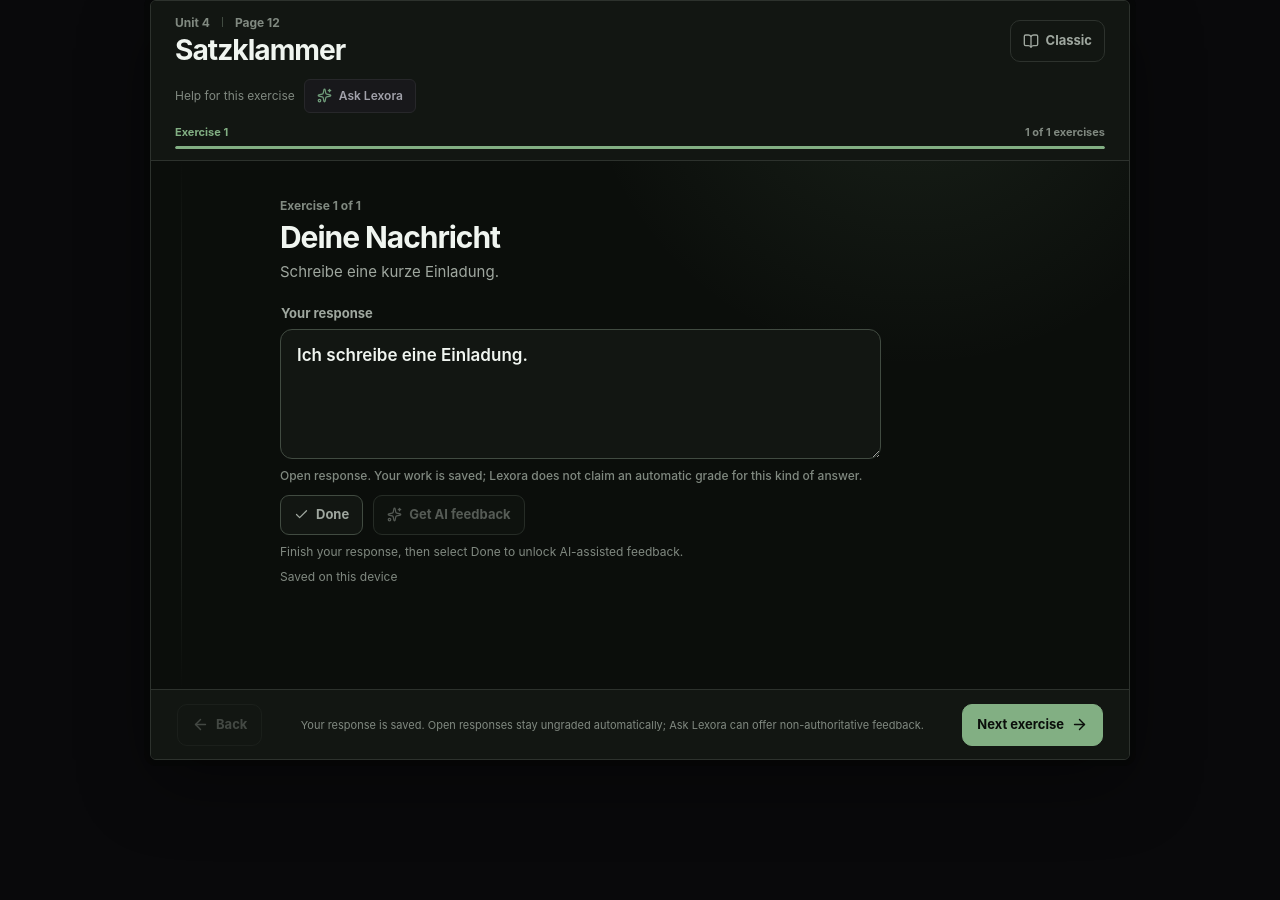
Test: InteractiveLesson › labels the open-response control cleanly and offers non-authoritative AI feedback
The width and height of the screenshot is (1280, 900).
Check: the button "Get AI feedback" is disabled, box [373,495,525,535]
Click the button "Done" at (322, 515), box [280,495,363,535]
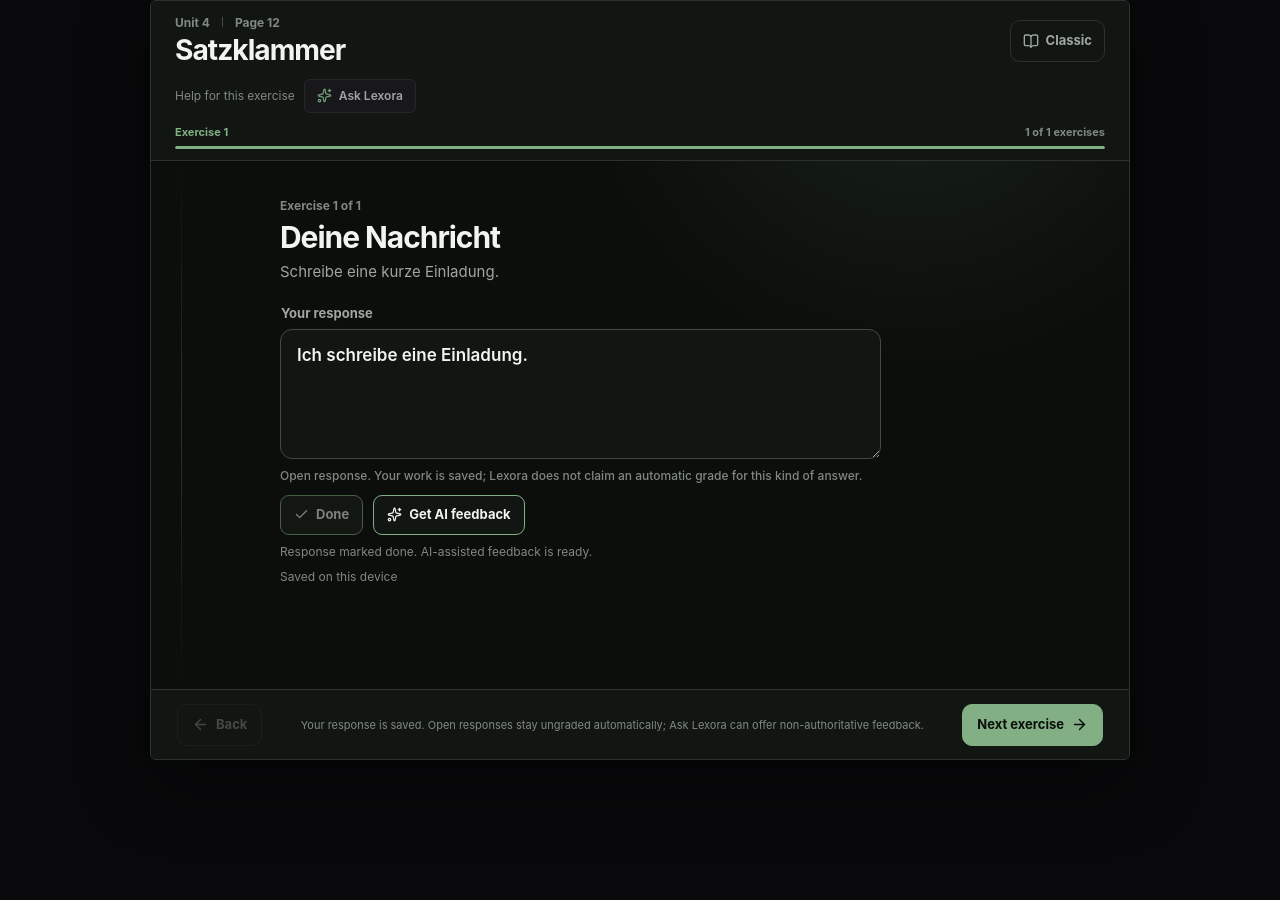
Check: the button "Get AI feedback" is enabled, box [373,495,525,535]
Click the button "Ask Lexora" at (360, 96), box [304,78,416,112]
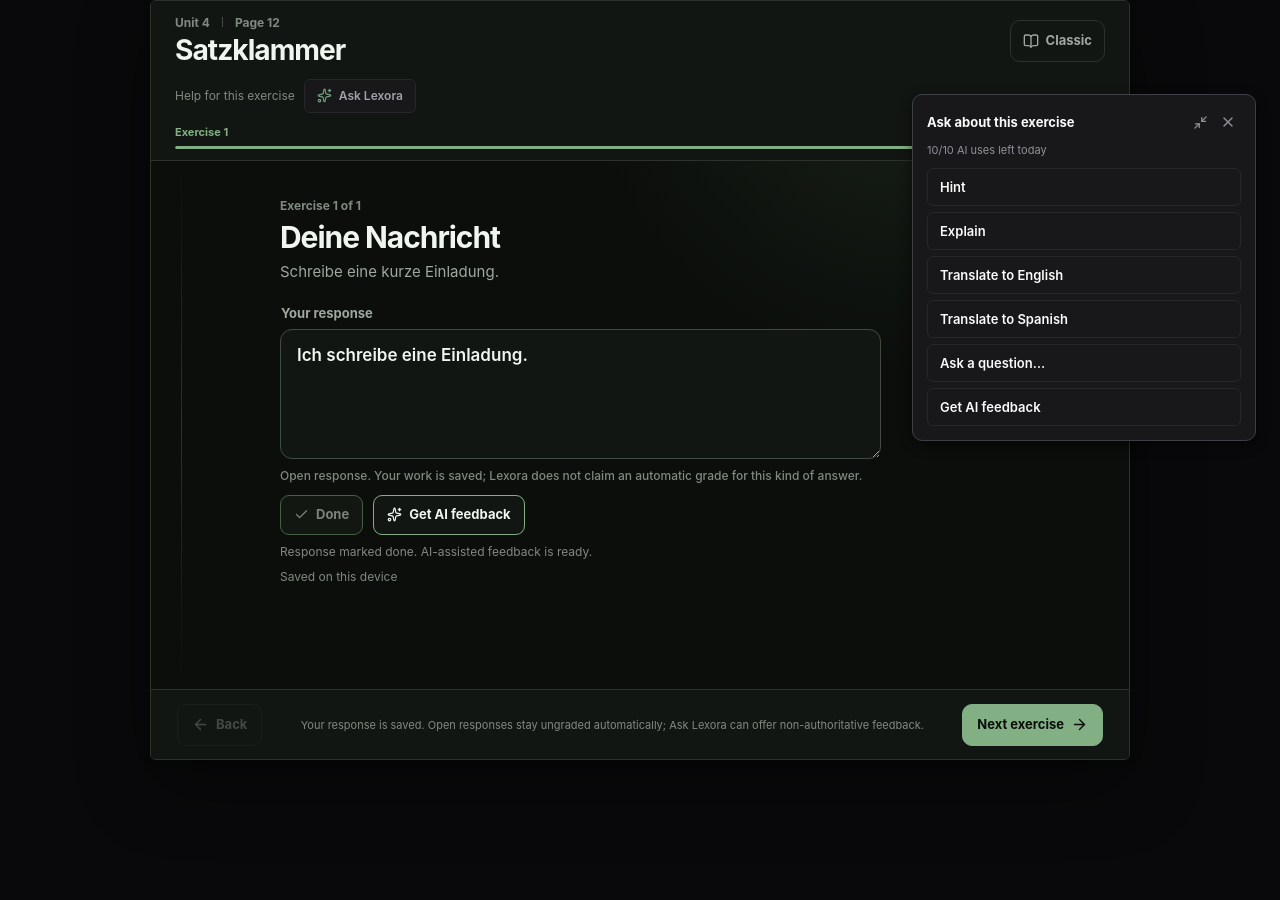
Check: the button "Get AI feedback" below "10/10 AI uses left today" is shown, box [927,388,1241,426]
